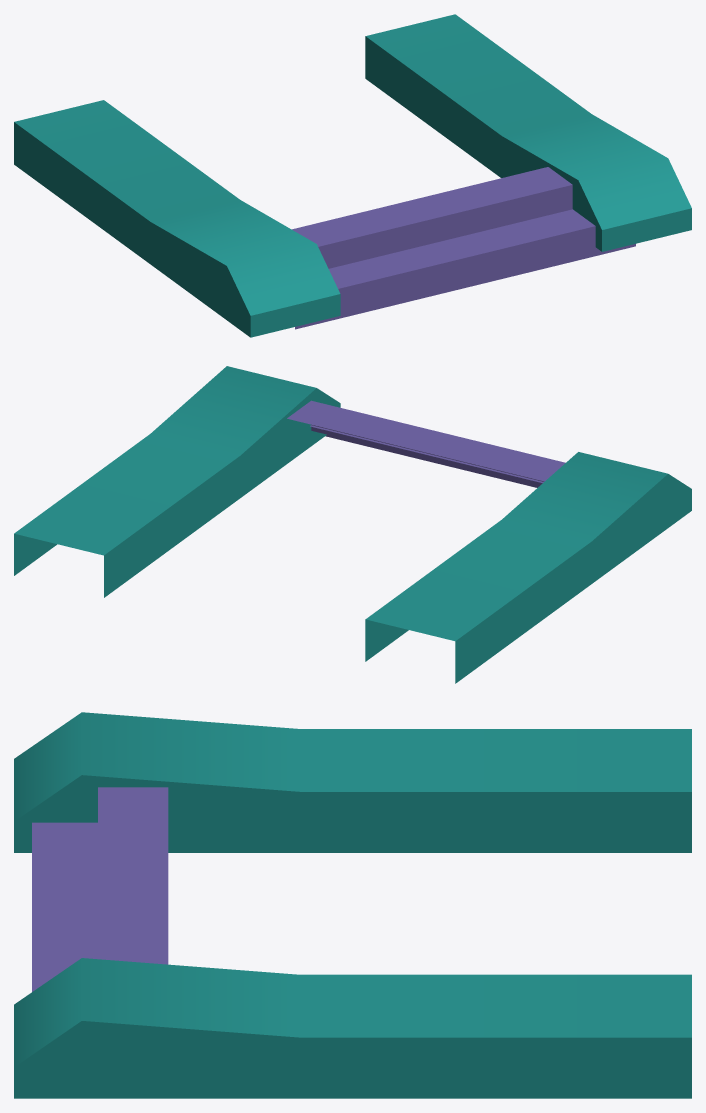
File: wall c podium.FBX
The picture shows the model from 3 angles, top to bottom: view 1: azimuth 30°, elevation 25°; view 2: azimuth 150°, elevation 25°; view 3: azimuth 270°, elevation 25°; orthographic projection. The views are drawn at different scales.
Parts seen in each view (by area): view 1: Box052; view 2: Box052; view 3: Box052.
Part boxes in pixels (box(x1,y1,x2,y2)): Box052: box(14, 14, 691, 337); Box052: box(14, 366, 691, 683); Box052: box(14, 712, 691, 1098).
Size of the model in its own units: 2.41 by 0.3304 by 2.24.
